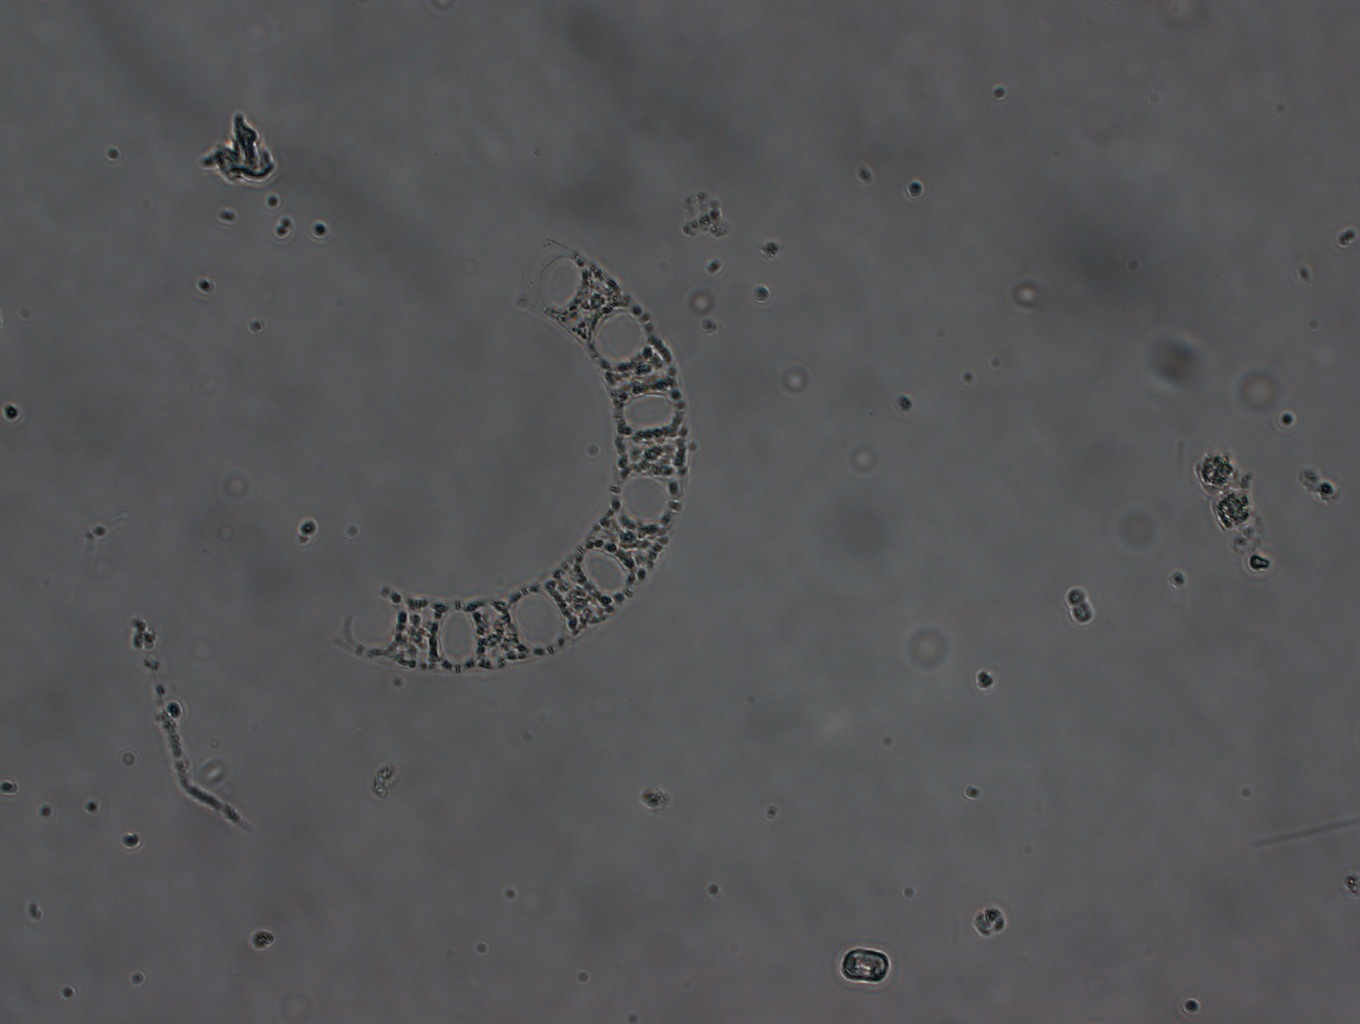eucampia: (323, 228, 699, 684)
